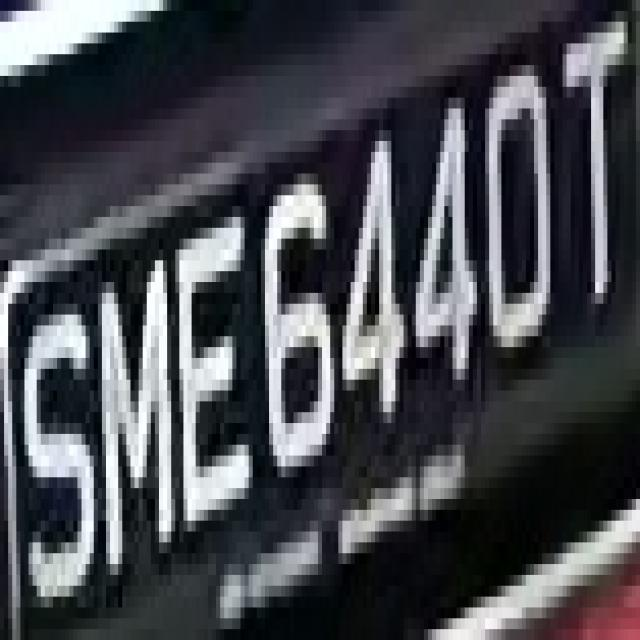0: (481, 54, 554, 380)
4: (326, 109, 408, 466), (404, 65, 485, 412)
6: (265, 119, 330, 488)
E: (179, 174, 257, 564)
M: (78, 217, 188, 575)
S: (16, 260, 94, 640)
T: (550, 0, 640, 315)
